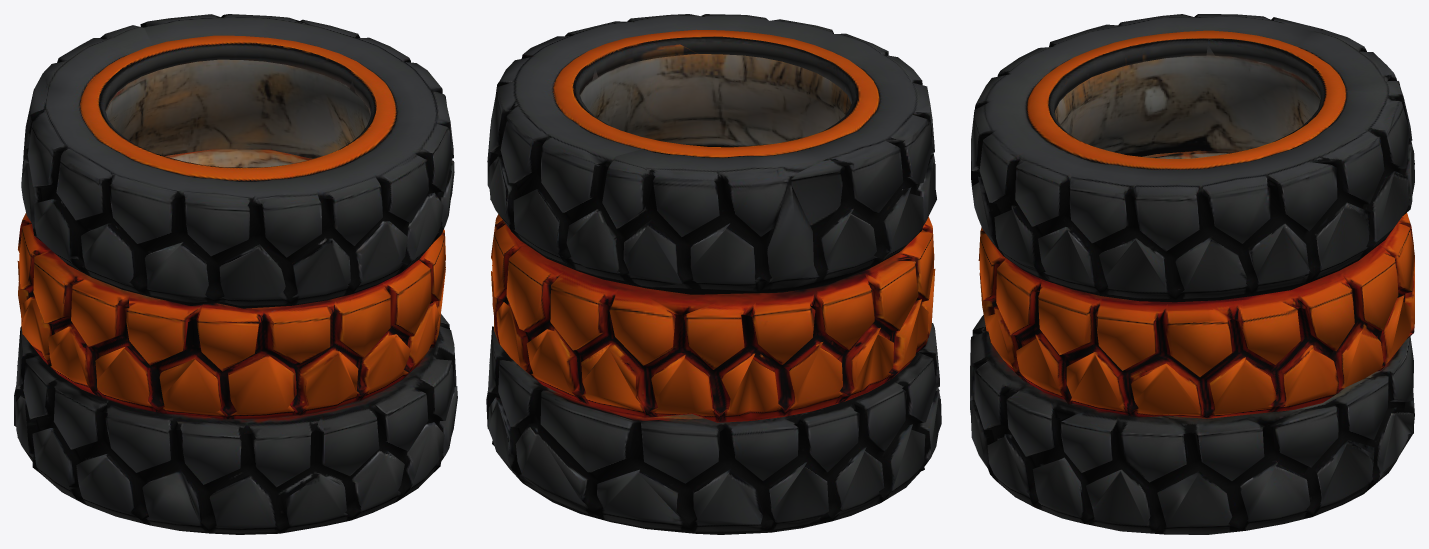
Rendered from tire-stack.glb.
The picture shows the model from 3 angles, left to right: view 1: azimuth 30°, elevation 25°; view 2: azimuth 150°, elevation 25°; view 3: azimuth 270°, elevation 25°; orthographic projection. The views are drawn at different scales.
Visible parts, largest first — view 1: tripo_node_3d6257b2-8bf7-497f-9a86-dddf9b072fd2; view 2: tripo_node_3d6257b2-8bf7-497f-9a86-dddf9b072fd2; view 3: tripo_node_3d6257b2-8bf7-497f-9a86-dddf9b072fd2.
Boxes of the visible parts, x1,y1,x2,y2 form: tripo_node_3d6257b2-8bf7-497f-9a86-dddf9b072fd2: (14,14,457,534); tripo_node_3d6257b2-8bf7-497f-9a86-dddf9b072fd2: (486,14,941,534); tripo_node_3d6257b2-8bf7-497f-9a86-dddf9b072fd2: (970,14,1414,534).
Bounding box in the file's own units: 1.5 × 1.35 × 1.5.
1 material, 1 textured.
